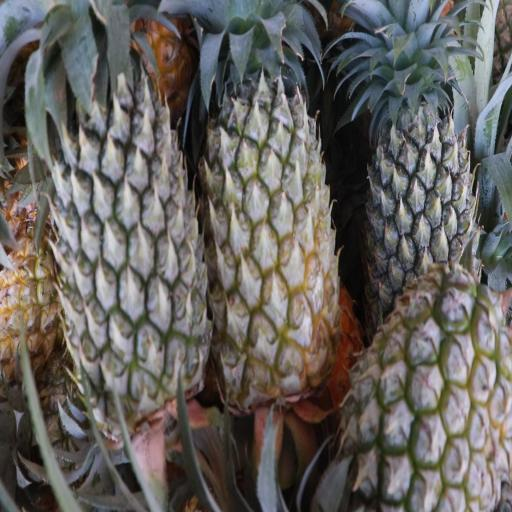------------------------------: (203, 30, 334, 398), (358, 277, 511, 512)
Pineapple - v8 v1: (0, 244, 67, 370)
